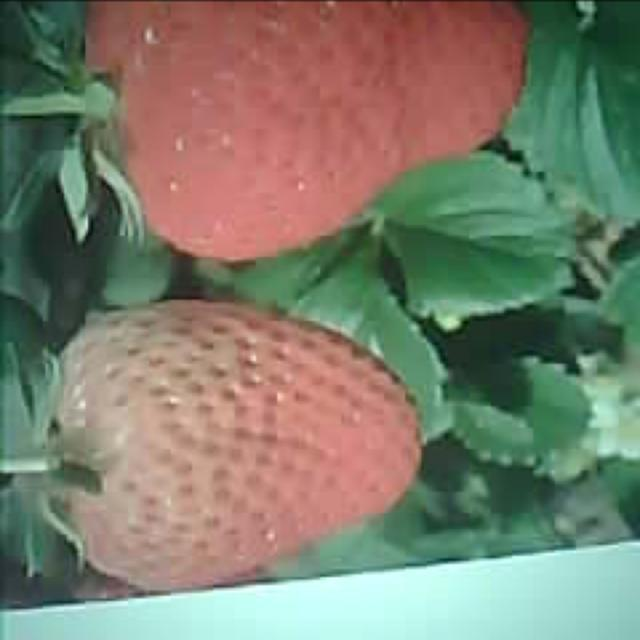ripe: (87, 0, 532, 261), (52, 296, 420, 590)
